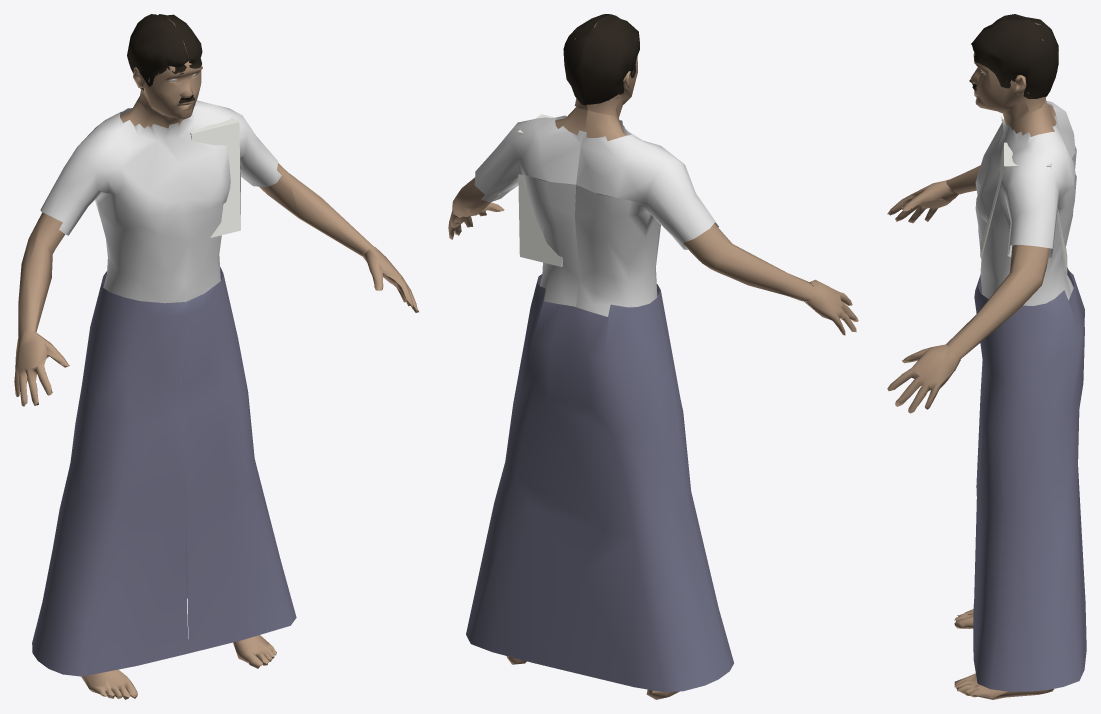
File: man_01.glb
The picture shows the model from 3 angles, left to right: view 1: azimuth 30°, elevation 25°; view 2: azimuth 150°, elevation 25°; view 3: azimuth 270°, elevation 25°; orthographic projection. The views are drawn at different scales.
Parts seen in each view (by area): view 1: crowd; view 2: crowd; view 3: crowd.
Boxes of the visible parts, left/top/right/bottom form: crowd: left=14, top=14, right=419, bottom=699; crowd: left=448, top=14, right=858, bottom=699; crowd: left=887, top=14, right=1086, bottom=699.
Size of the model in its own units: 1.15 by 1.79 by 0.5059.
